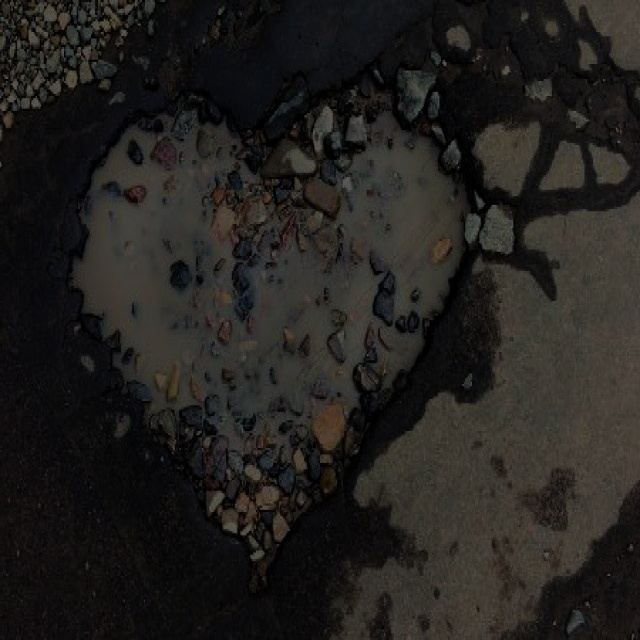Pothole: (64, 56, 489, 594)
